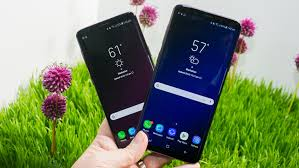samsung: (130, 1, 242, 163)
